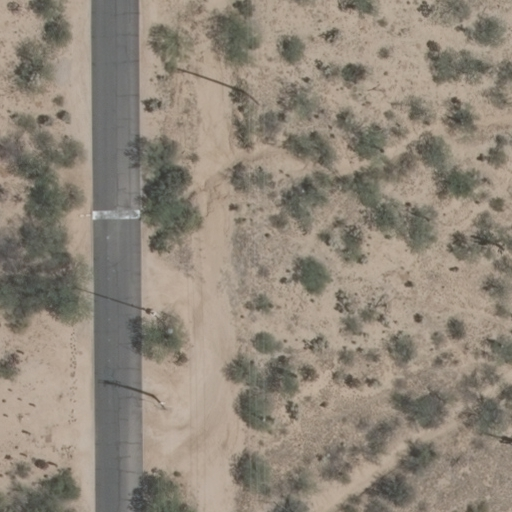DT: (153, 393, 173, 412), (142, 302, 158, 320), (164, 57, 178, 77)
